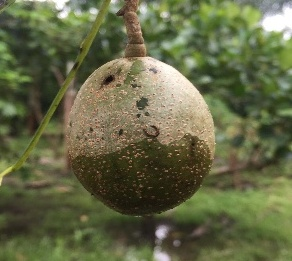Coc: (65, 56, 217, 217)
